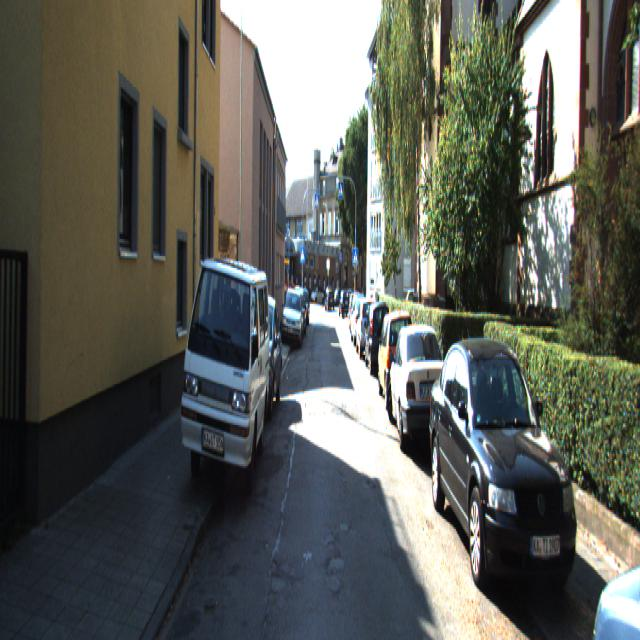Car: (426, 324, 584, 616), (179, 246, 272, 508), (578, 355, 640, 638), (381, 319, 453, 459), (236, 288, 284, 416), (376, 304, 421, 408), (362, 299, 394, 372), (354, 301, 380, 364), (282, 286, 302, 347), (350, 294, 370, 344)
